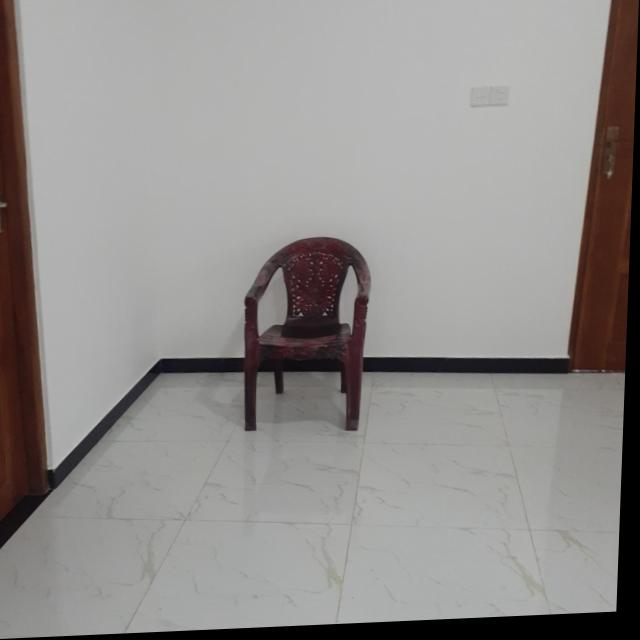Chair: (243, 237, 374, 440)
